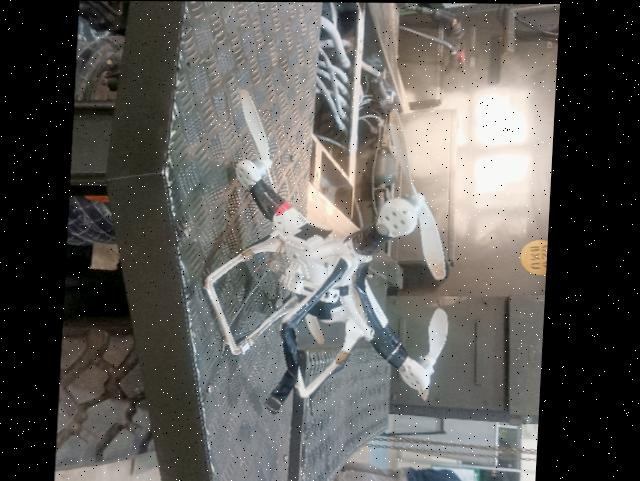drone: (192, 58, 479, 437)
